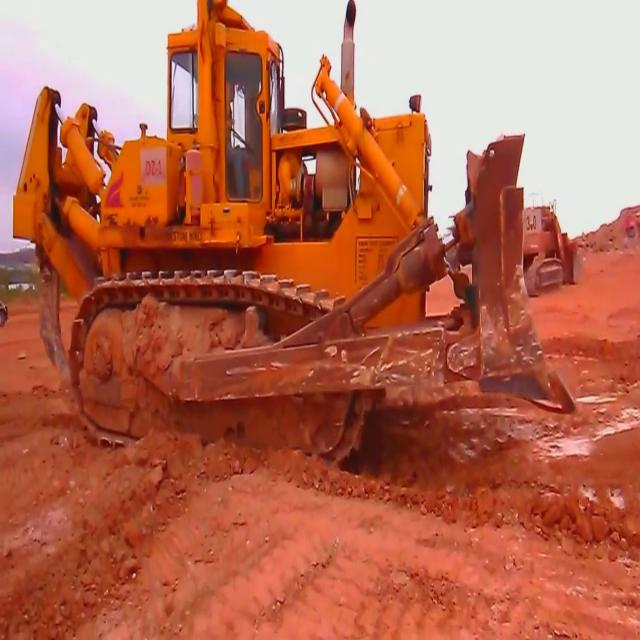buldozerpayloadergrader: (8, 4, 577, 502)
excavator: (526, 187, 583, 300)
